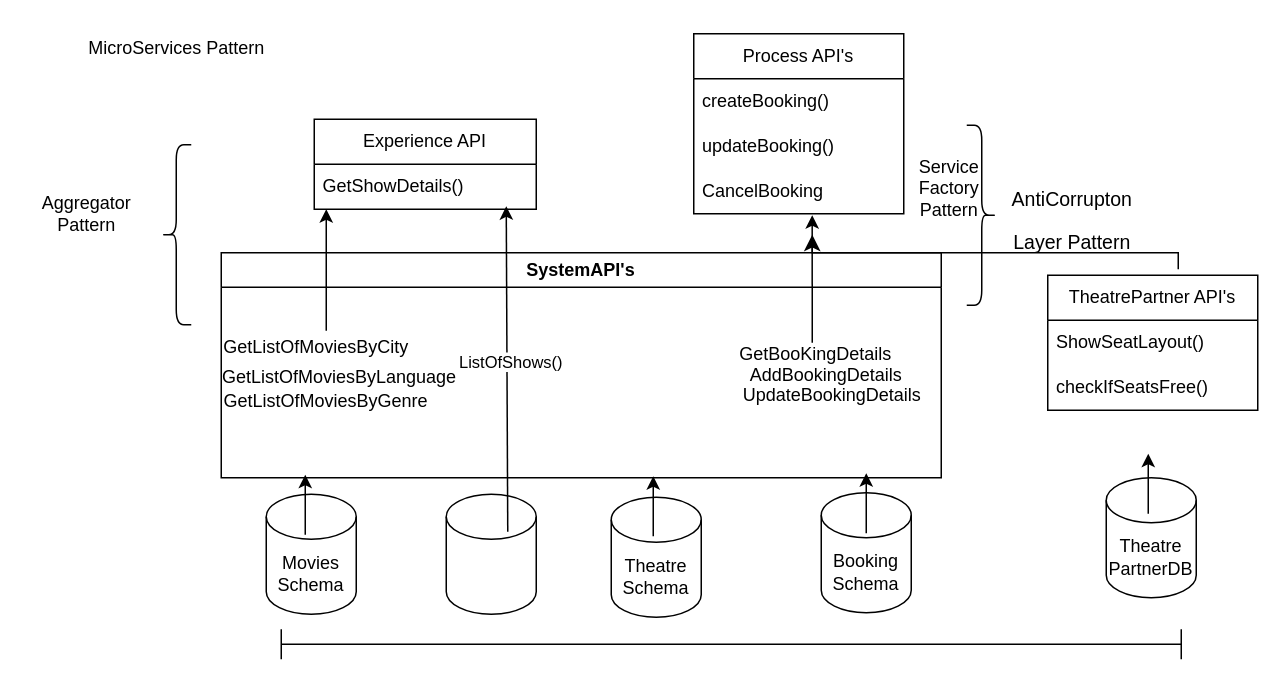
The diagram is 1284 pixels wide and 686 high, and some of its shapes have lost their labels. Here are the shapes that lost their labels. From the top down, the centre of each, then its label:
At point (490, 553): "Show Schema".
At point (730, 643): "DataBase or Shared Database pattern".
